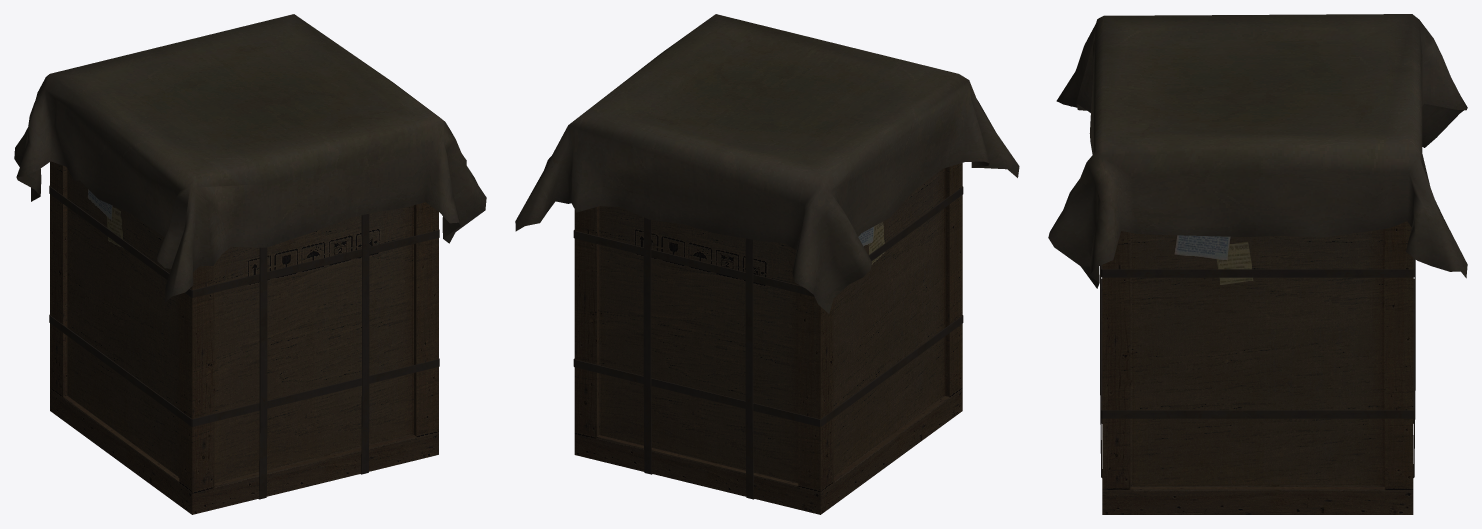
File: wooden_crate_hx_1_2.glb
The picture shows the model from 3 angles, left to right: view 1: azimuth 30°, elevation 25°; view 2: azimuth 150°, elevation 25°; view 3: azimuth 270°, elevation 25°; orthographic projection. The views are drawn at different scales.
Parts seen in each view (by area): view 1: wooden_crate_hx_1_2; view 2: wooden_crate_hx_1_2; view 3: wooden_crate_hx_1_2.
Boxes of the visible parts, bbox=[...] form: wooden_crate_hx_1_2: bbox=[14, 14, 486, 514]; wooden_crate_hx_1_2: bbox=[515, 14, 1019, 514]; wooden_crate_hx_1_2: bbox=[1048, 14, 1467, 514].
Bounding box in the file's own units: 1.89 × 1.84 × 1.89.
Materials: 3 (3 with a texture image).
